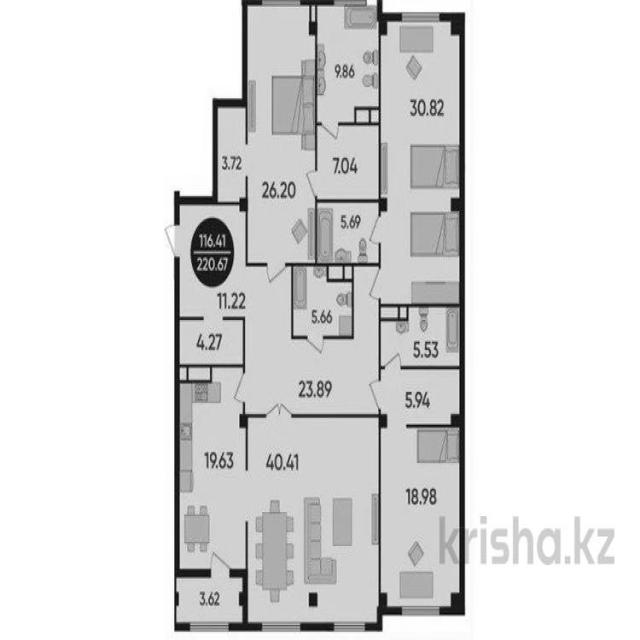balcony: (176, 572, 244, 627)
bathroom: (318, 7, 380, 124), (380, 305, 462, 365), (292, 266, 354, 342), (317, 200, 379, 262)
hallway: (182, 204, 379, 413)
kitchen: (178, 368, 245, 570)
living_room: (246, 419, 379, 623), (380, 17, 462, 304), (246, 5, 314, 264), (381, 424, 461, 612)
